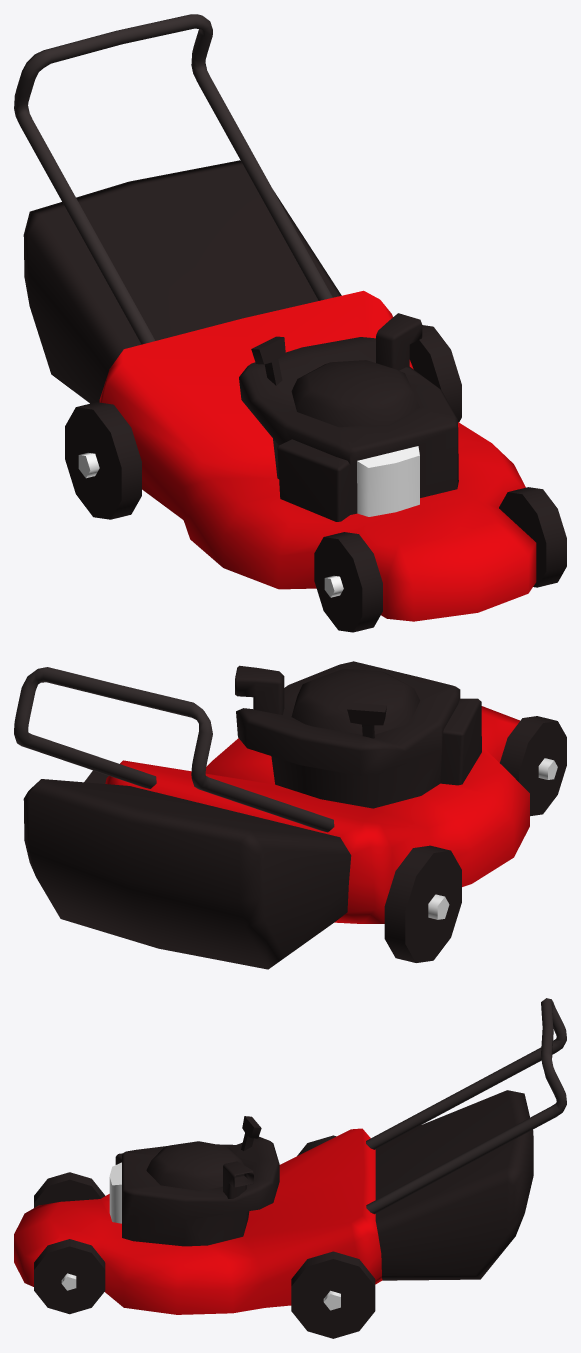
The model's file is Lawnmower_01.fbx.
3 renders of one model, top to bottom at view 1: azimuth 30°, elevation 25°; view 2: azimuth 150°, elevation 25°; view 3: azimuth 270°, elevation 25°, orthographic. The views are drawn at different scales.
Visible parts, largest first — view 1: SM_lawnmower_01; view 2: SM_lawnmower_01; view 3: SM_lawnmower_01.
Part boxes in pixels (x1,y1,x2,y2): SM_lawnmower_01: (14,14,566,632); SM_lawnmower_01: (14,661,566,969); SM_lawnmower_01: (14,998,566,1338).
Bounding box in the file's own units: 98.83 × 89.32 × 177.
1 material, 1 textured.
